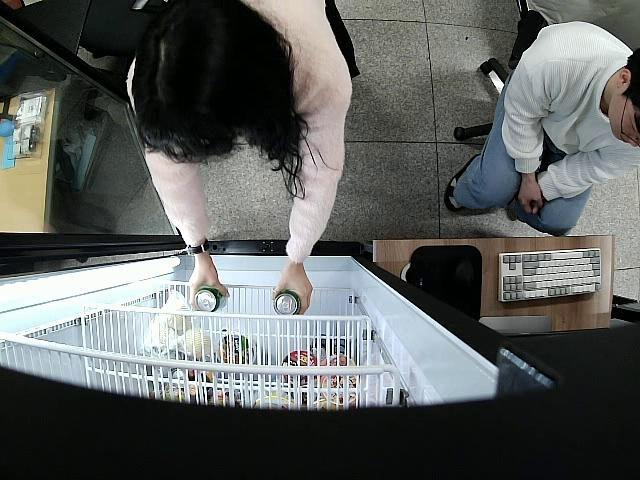12_chilsungCider: (193, 286, 228, 312), (272, 288, 302, 317)
